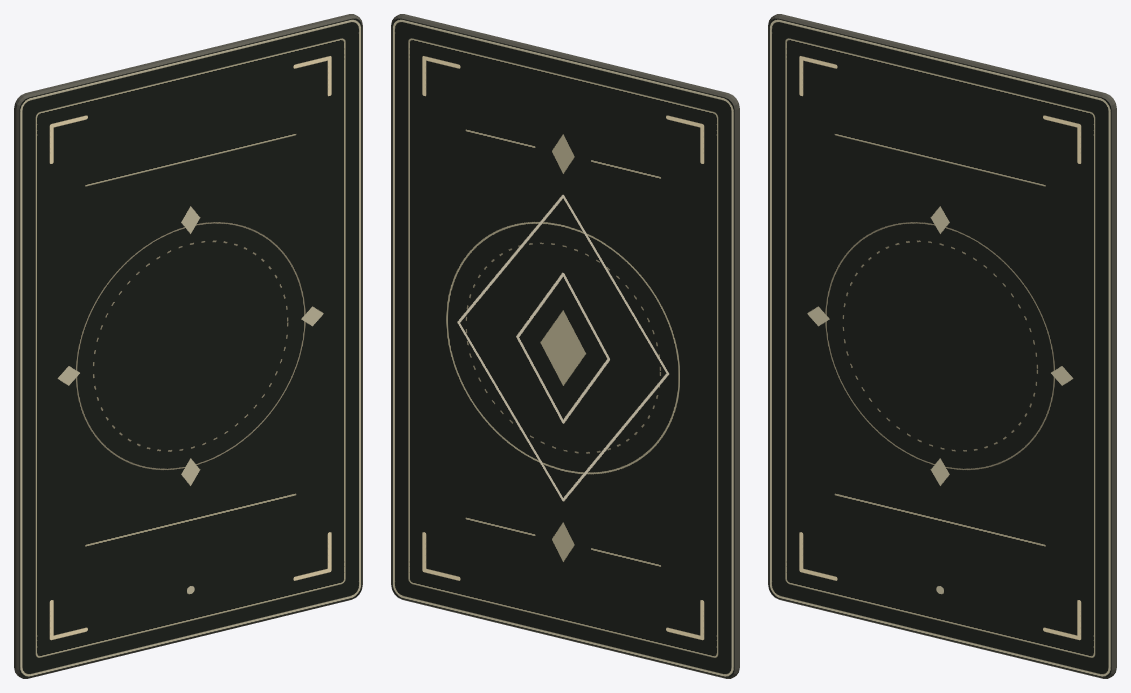
Rendered from blank.glb.
3 views of the same model, side by side, from view 1: azimuth 30°, elevation 25°; view 2: azimuth 150°, elevation 25°; view 3: azimuth 330°, elevation 25° (orthographic).
Visible parts, largest first — view 1: blank; view 2: blank; view 3: blank.
Boxes of the visible parts, box(x1,y1,x2,y2) form: blank: box(14, 14, 362, 678); blank: box(391, 14, 739, 678); blank: box(768, 14, 1116, 678).
Size of the model in its own units: 0.18 by 0.29 by 0.004.
3 materials, 2 textured.
